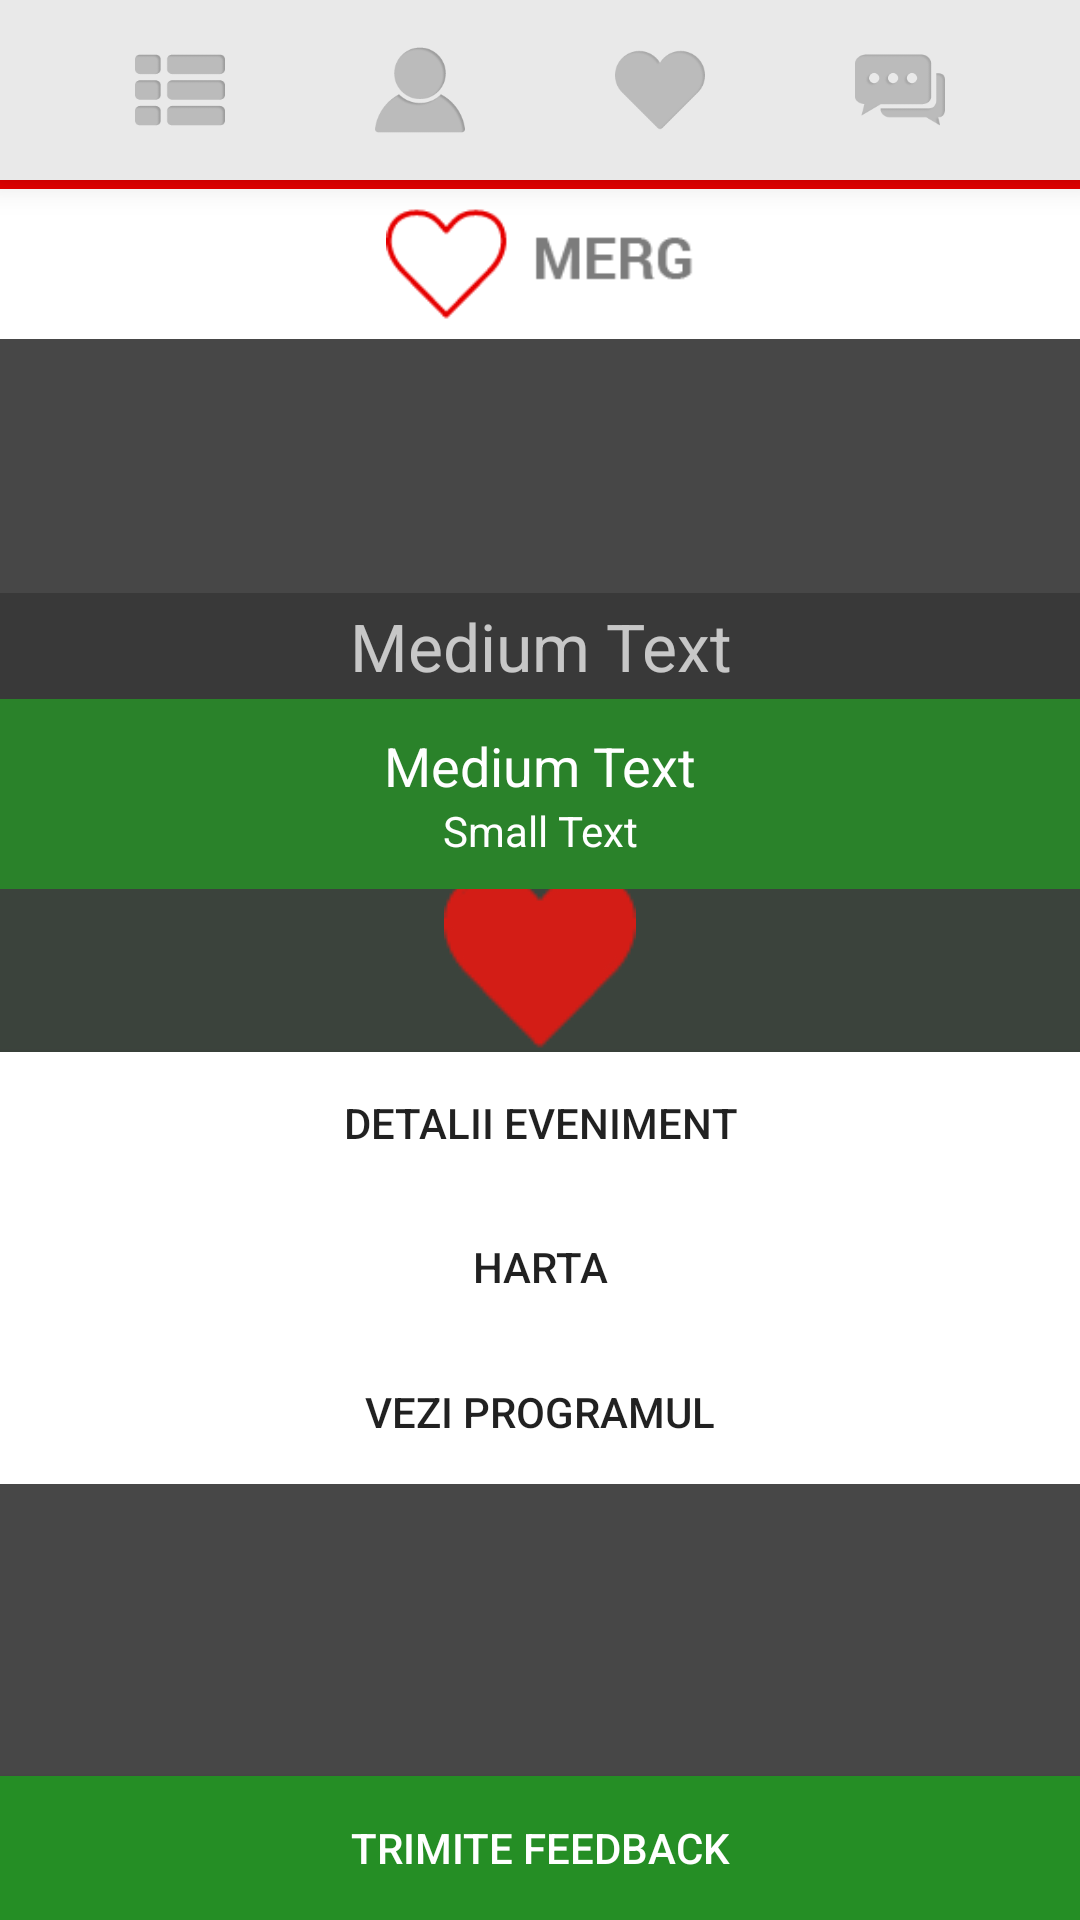

Named icons in this screenshot (1080×1920) and their bounding boxes, (x1, y1, x2, y2):
heart: (615, 51, 705, 129)
user: (375, 48, 465, 132)
